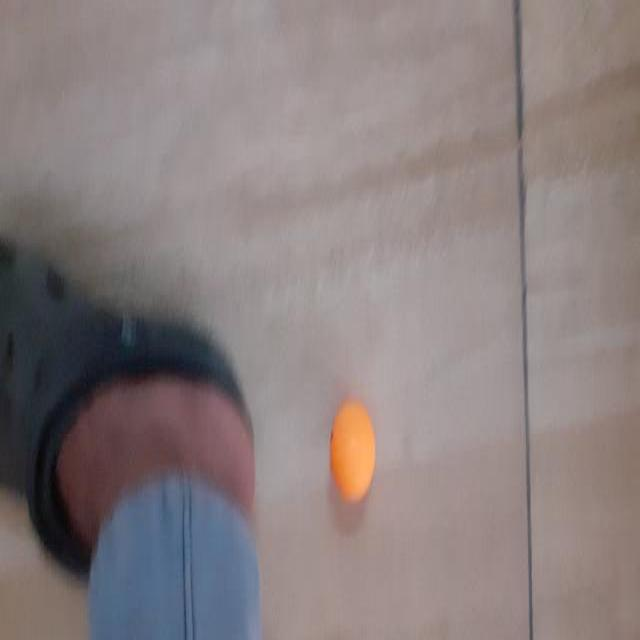oball: (330, 400, 374, 496)
